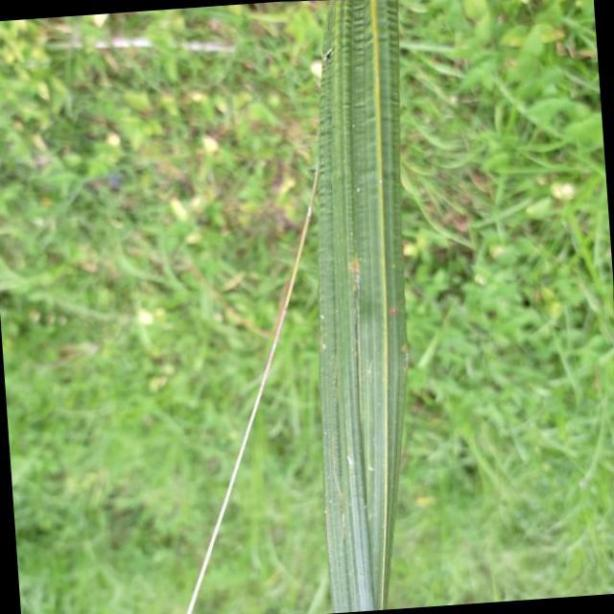Boron: (320, 0, 406, 609)
